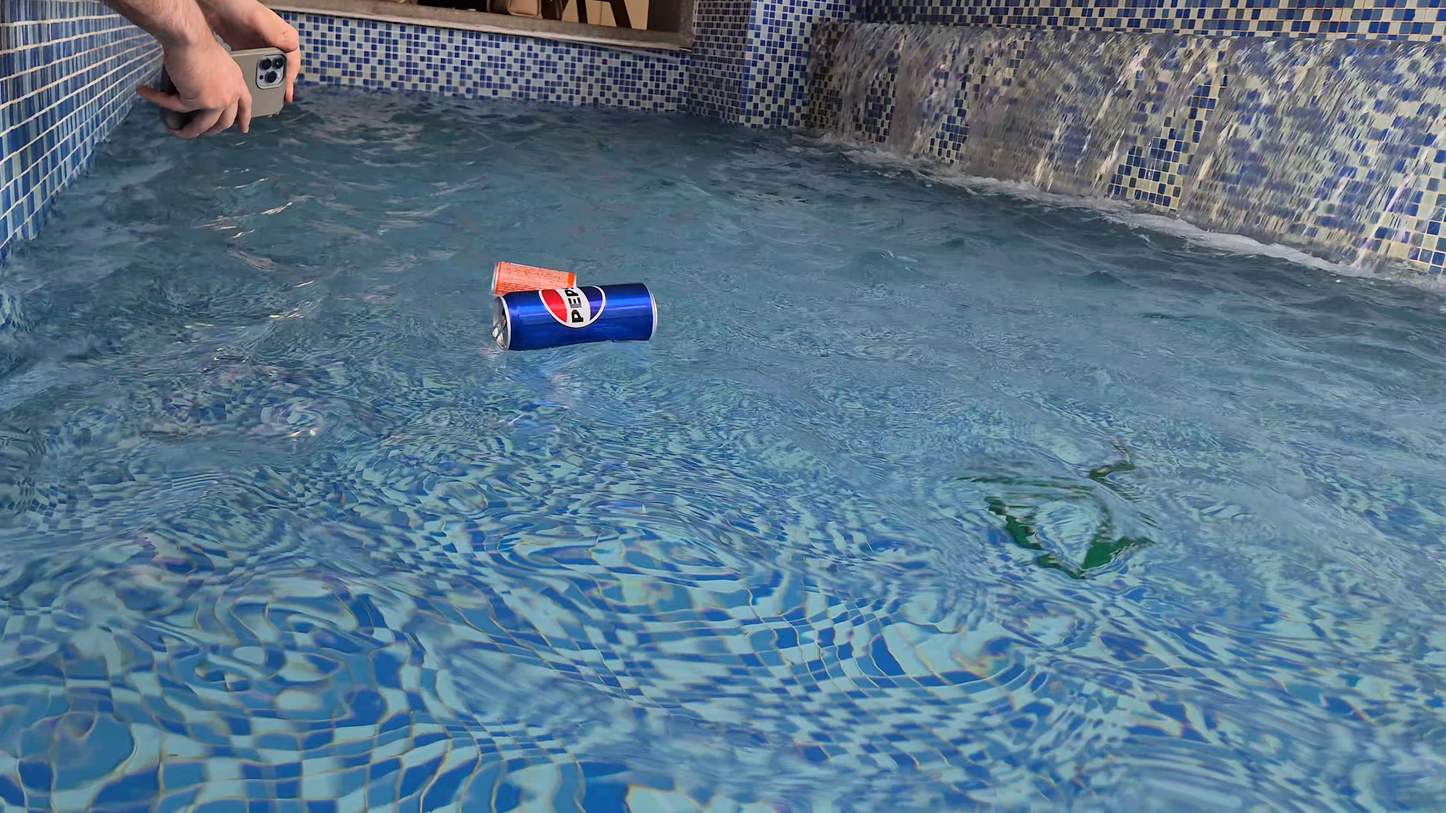debris: (486, 276, 666, 357), (490, 254, 578, 311)
